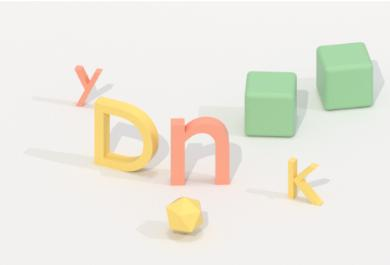0-KhoiVuong: (312, 38, 378, 116), (238, 68, 303, 142)
0-TronCanh: (159, 194, 210, 237)
D: (89, 94, 161, 175)
K: (282, 154, 327, 210)
n: (166, 115, 234, 190)
y: (73, 60, 102, 106)
